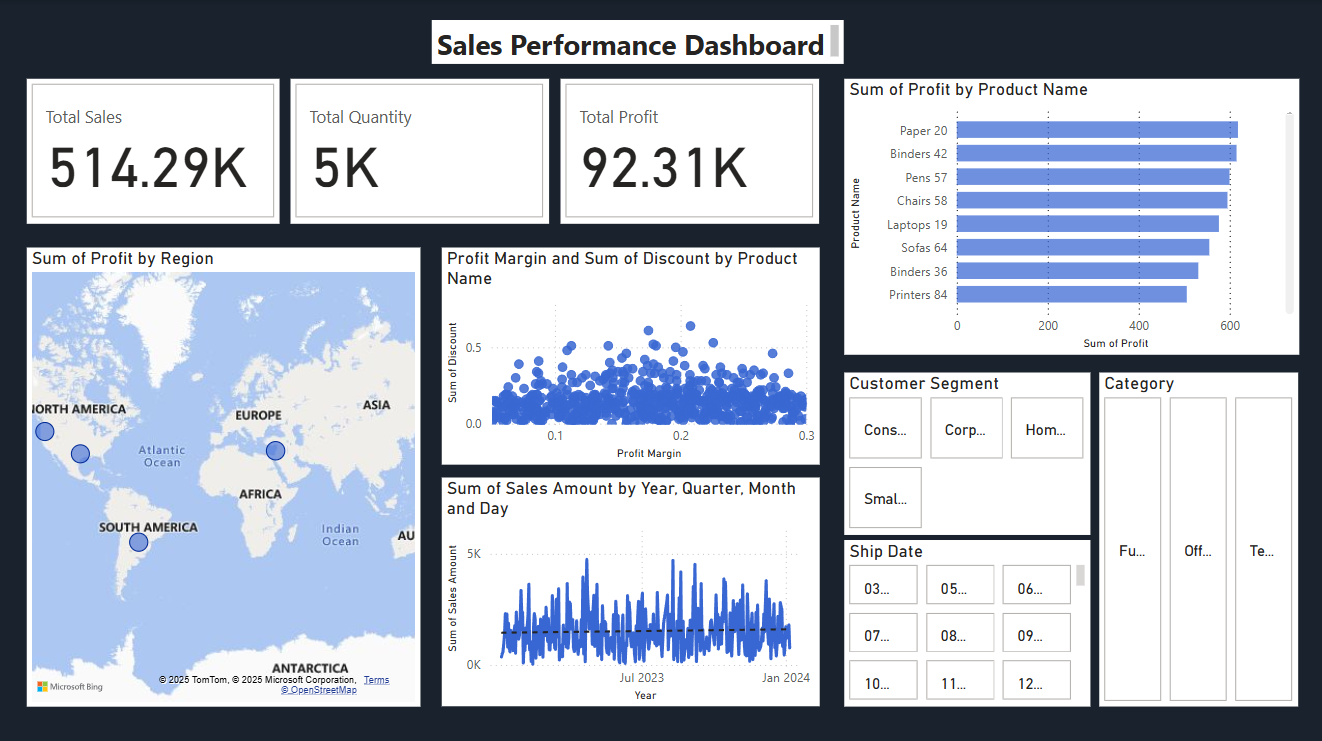

The dashboard page shown, as its layout file describes it:
{"tool":"powerbi","page":{"name":"Superstore Sales Performance Dashboard","canvas":[1280,720],"ordinal":5},"visuals":[{"type":"map","fields":{"Category":["Superstore Sales Dataset.Region"],"Size":["Sum(Superstore Sales Dataset.Profit)"]},"box":[27.4,238.8,380.1,443.2],"z":0},{"type":"cardVisual","fields":{"Data":["Superstore Sales Dataset.Total Profit","Superstore Sales Dataset.Total Profit","Superstore Sales Dataset.Total Profit"]},"box":[543.4,75.5,249.7,140],"z":1000},{"type":"cardVisual","fields":{"Data":["Superstore Sales Dataset.Total Sales"]},"box":[27.4,75.5,244.3,140],"z":2000},{"type":"cardVisual","fields":{"Data":["Superstore Sales Dataset.Total Quantity"]},"box":[282.7,75.5,249.7,140],"z":3000},{"type":"clusteredBarChart","fields":{"Category":["Superstore Sales Dataset.Product Name"],"Y":["Sum(Superstore Sales Dataset.Profit)"]},"box":[816.5,75.5,439.1,266.2],"z":4000},{"type":"scatterChart","fields":{"Category":["Superstore Sales Dataset.Product Name"],"X":["Superstore Sales Dataset.Profit Margin"],"Y":["Sum(Superstore Sales Dataset.Discount)"]},"box":[428.1,238.8,365,209.9],"z":5000},{"type":"advancedSlicerVisual","fields":{"Values":["Superstore Sales Dataset.Ship Date"]},"box":[816.5,521.4,237.4,160.5],"z":6000},{"type":"advancedSlicerVisual","fields":{"Values":["Superstore Sales Dataset.Customer Segment"]},"box":[816.5,359.5,237.4,156.4],"z":7000},{"type":"advancedSlicerVisual","fields":{"Values":["Superstore Sales Dataset.Category"]},"box":[1063.5,359.5,192.1,322.5],"z":8000},{"type":"lineChart","fields":{"Y":["Sum(Superstore Sales Dataset.Sales Amount)"],"Category":["Superstore Sales Dataset.Ship Date.Variation.Date Hierarchy.Year","Superstore Sales Dataset.Ship Date.Variation.Date Hierarchy.Quarter","Superstore Sales Dataset.Ship Date.Variation.Date Hierarchy.Month","Superstore Sales Dataset.Ship Date.Variation.Date Hierarchy.Day"]},"box":[428.1,461.1,365,220.9],"z":9000},{"type":"textbox","box":[418.5,19.2,397.9,42.5],"z":10000}]}

Visuals, with their boxes in screenshot pixels (x1, y1, x2, y2), scaled from the page's 1280x720 canvas onto the 1322x741 screenshot:
map - Superstore Sales Dataset.Region x Sum(Superstore Sales Dataset.Profit): {"x1": 28, "y1": 246, "x2": 421, "y2": 702}
cardVisual - Superstore Sales Dataset.Total Profit x Superstore Sales Dataset.Total Profit: {"x1": 561, "y1": 78, "x2": 819, "y2": 222}
cardVisual - Superstore Sales Dataset.Total Sales: {"x1": 28, "y1": 78, "x2": 281, "y2": 222}
cardVisual - Superstore Sales Dataset.Total Quantity: {"x1": 292, "y1": 78, "x2": 550, "y2": 222}
clusteredBarChart - Superstore Sales Dataset.Product Name x Sum(Superstore Sales Dataset.Profit): {"x1": 843, "y1": 78, "x2": 1297, "y2": 352}
scatterChart - Superstore Sales Dataset.Product Name x Superstore Sales Dataset.Profit Margin: {"x1": 442, "y1": 246, "x2": 819, "y2": 462}
advancedSlicerVisual - Superstore Sales Dataset.Ship Date: {"x1": 843, "y1": 537, "x2": 1088, "y2": 702}
advancedSlicerVisual - Superstore Sales Dataset.Customer Segment: {"x1": 843, "y1": 370, "x2": 1088, "y2": 531}
advancedSlicerVisual - Superstore Sales Dataset.Category: {"x1": 1098, "y1": 370, "x2": 1297, "y2": 702}
lineChart - Sum(Superstore Sales Dataset.Sales Amount) x Superstore Sales Dataset.Ship Date.Variation.Date Hierarchy.Year: {"x1": 442, "y1": 475, "x2": 819, "y2": 702}
textbox: {"x1": 432, "y1": 20, "x2": 843, "y2": 63}
